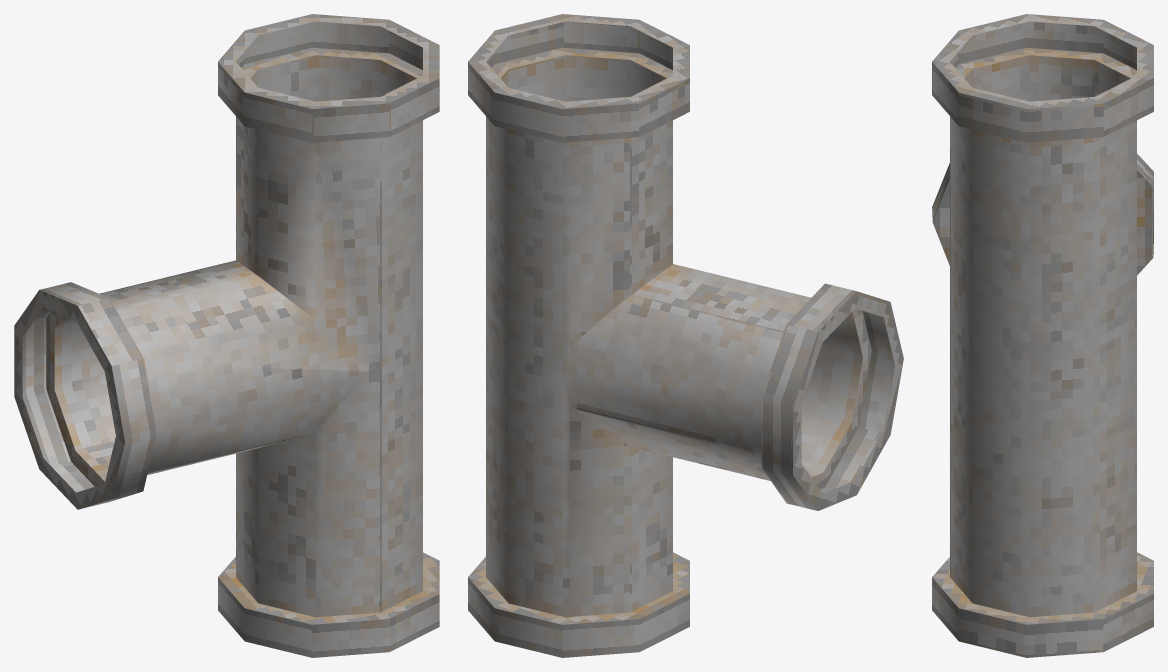
File: PipeTJoint.glb
3 renders of one model, left to right at view 1: azimuth 30°, elevation 25°; view 2: azimuth 150°, elevation 25°; view 3: azimuth 270°, elevation 25°, orthographic.
Parts seen in each view (by area): view 1: PipeTJoint; view 2: PipeTJoint; view 3: PipeTJoint.
Part boxes in pixels (<box>): PipeTJoint: <box>14,14,439,657</box>; PipeTJoint: <box>468,14,903,657</box>; PipeTJoint: <box>932,14,1153,657</box>.
Bounding box in the file's own units: 0.1408 × 0.204 × 0.0747.
Materials: 1 (1 with a texture image).
